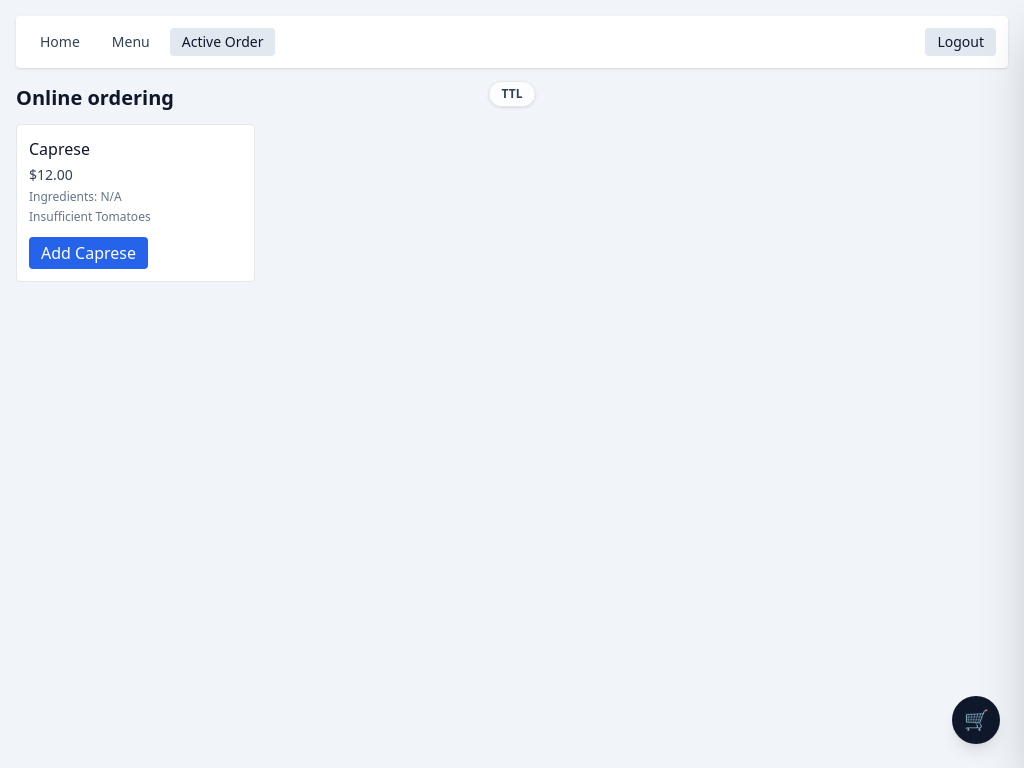
Scenario: Phase 10 routing and online behavior › formats 409 insufficient errors at top of page
Check: the text "Caprese" is shown, box [29,138,90,160]
Click the button "Add Caprese" at (88, 253), box [29,237,148,269]
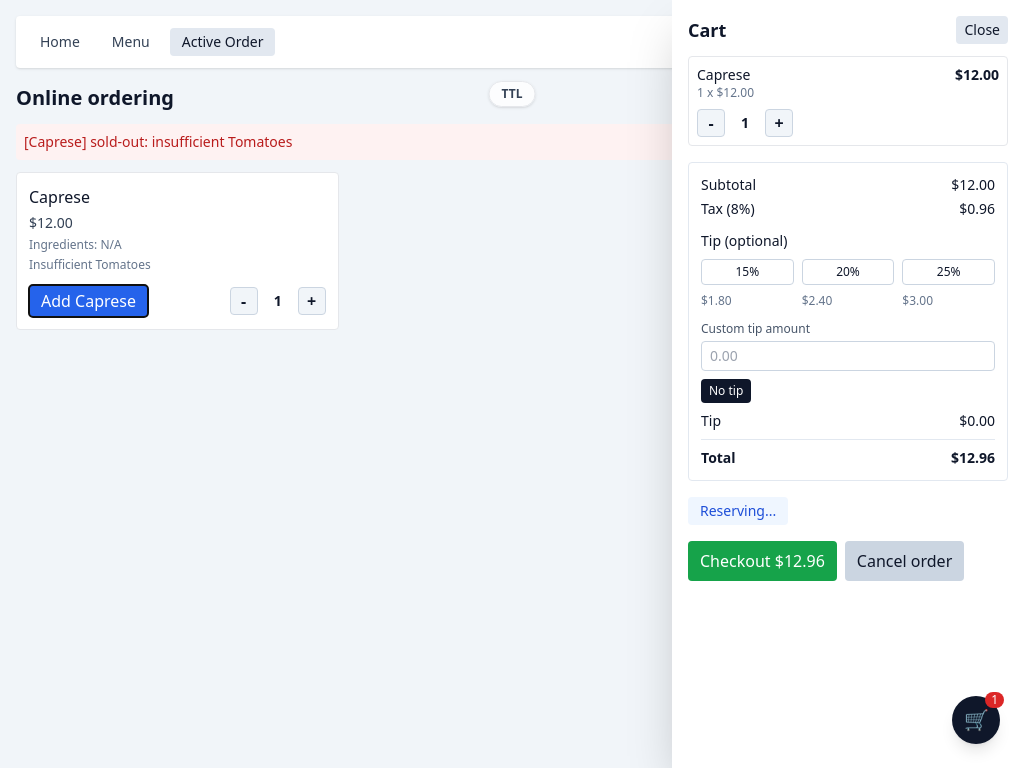
Check: the list item "[Caprese] sold-out: insufficient Tomatoes" is shown, box [24,132,292,151]
